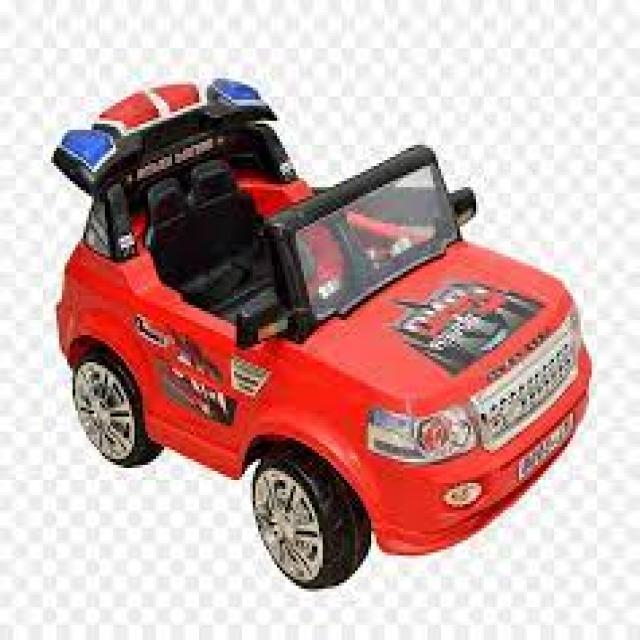Car: (51, 72, 594, 588)
